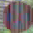No Stopping: (1, 0, 31, 32)
